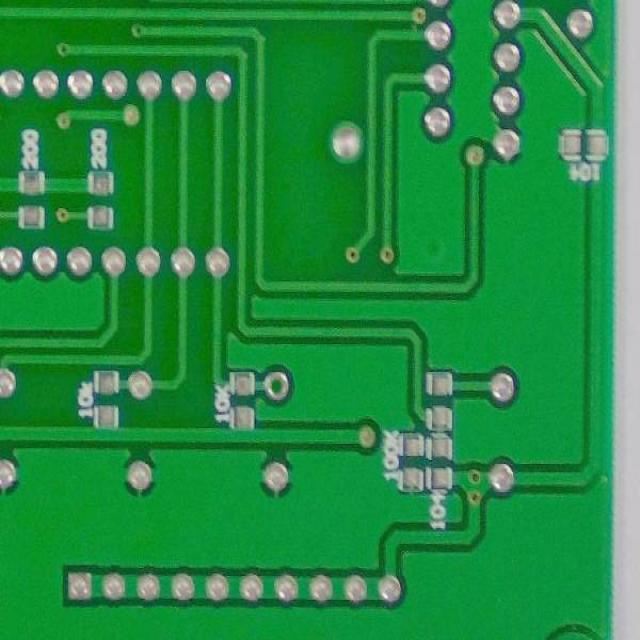missing hole: (260, 365, 294, 407)
